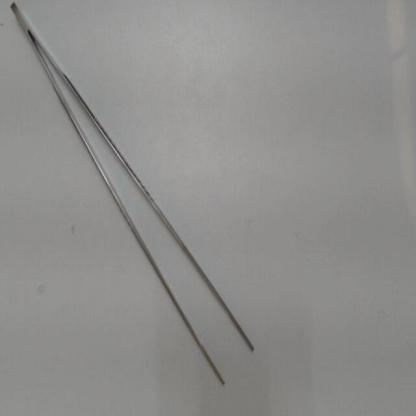DeBakey Dissector: (4, 2, 274, 393)
